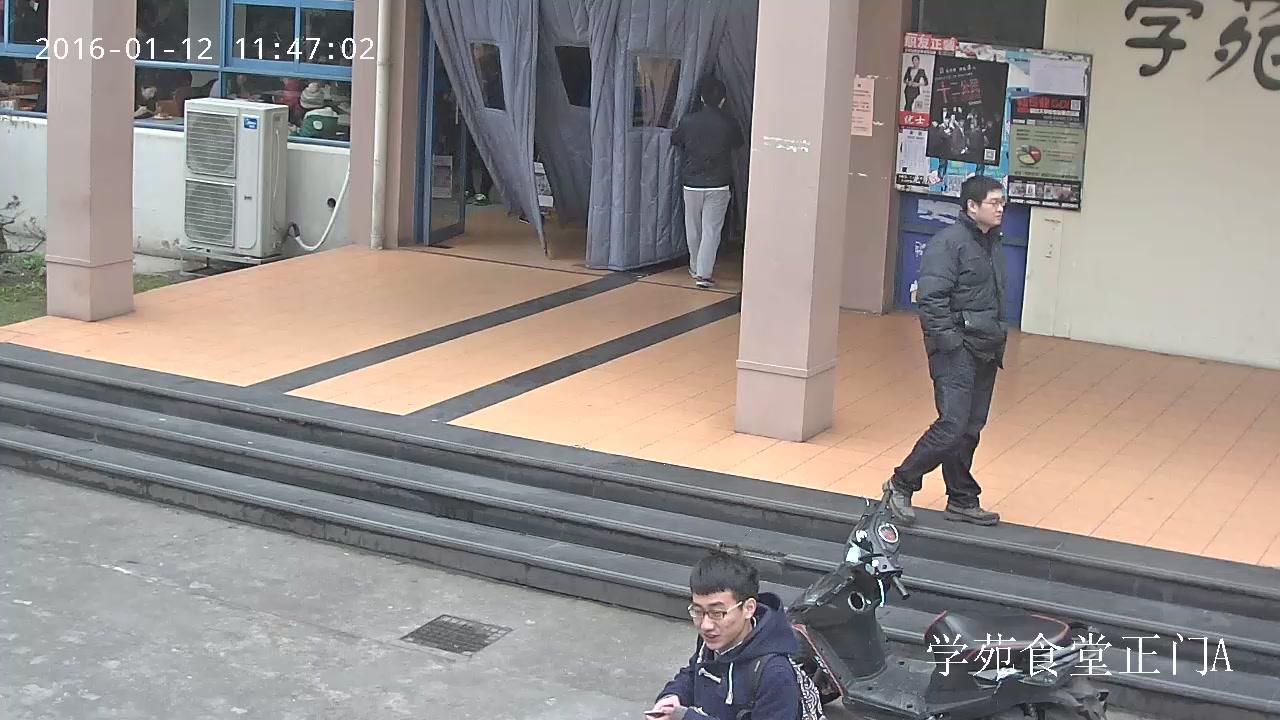person: (882, 172, 1010, 528), (644, 550, 822, 717), (670, 77, 743, 289), (463, 38, 515, 206), (291, 81, 340, 142), (212, 67, 254, 106), (903, 53, 927, 111), (136, 76, 163, 124)
